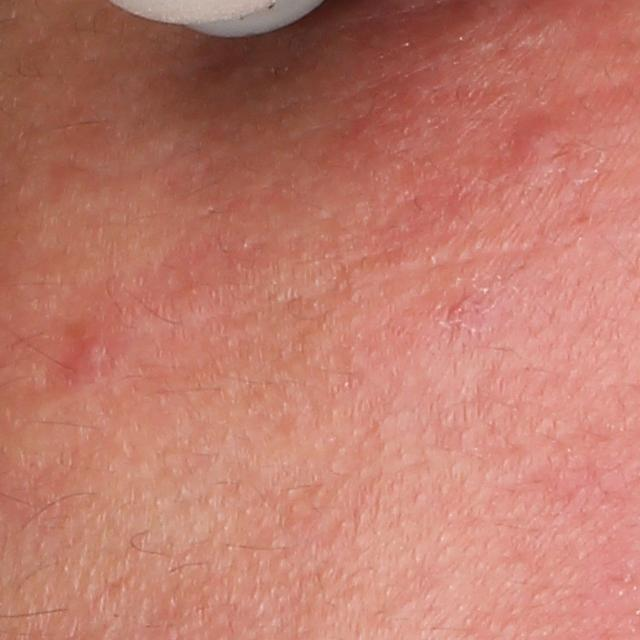papule: (507, 113, 567, 173), (74, 324, 116, 377)
